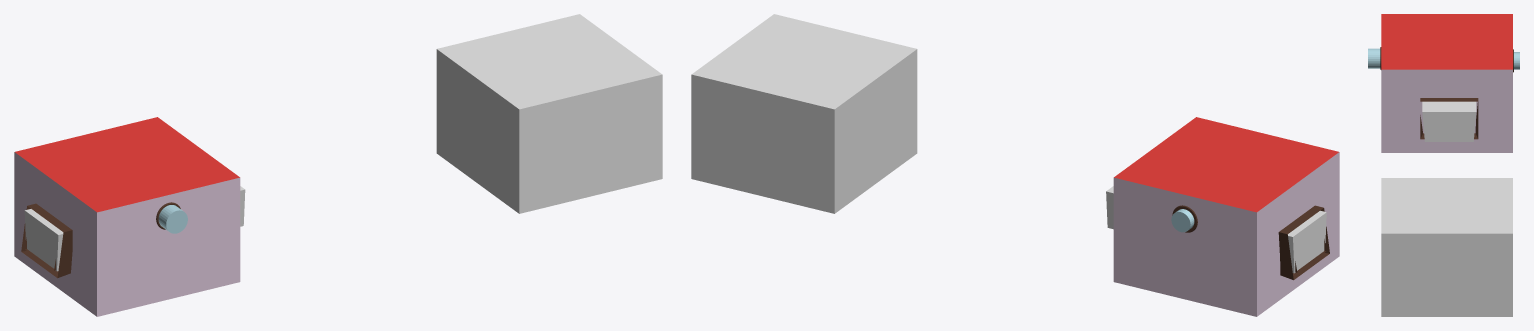
The model's file is rooms.fbx.
3 renders of one model, left to right at view 1: azimuth 30°, elevation 25°; view 2: azimuth 150°, elevation 25°; view 3: azimuth 270°, elevation 25°, orthographic. The views are drawn at different scales.
Visible parts, largest first — view 1: Cube.003, Cube, Cube.001, Cube.012, Circle.001; view 2: Cube.003, Cube, Cube.001, Cube.012; view 3: Cube.003, Cube, Cube.001, Cube.012, Circle.001.
Boxes of the visible parts, left/top/right/bottom form: Cube.003: left=436, top=14, right=662, bottom=213; Cube: left=14, top=117, right=240, bottom=316; Cube.001: left=24, top=186, right=245, bottom=271; Cube.012: left=21, top=203, right=72, bottom=278; Circle.001: left=158, top=205, right=187, bottom=233; Cube.003: left=691, top=14, right=917, bottom=213; Cube: left=1113, top=117, right=1339, bottom=316; Cube.001: left=1106, top=186, right=1326, bottom=273; Cube.012: left=1278, top=205, right=1329, bottom=280; Cube.003: left=1381, top=178, right=1512, bottom=316; Cube: left=1381, top=14, right=1512, bottom=152; Cube.001: left=1422, top=101, right=1476, bottom=141; Cube.012: left=1420, top=98, right=1478, bottom=139; Circle.001: left=1368, top=48, right=1380, bottom=68.
Bounding box in the file's own units: 1528 × 263 × 435.
